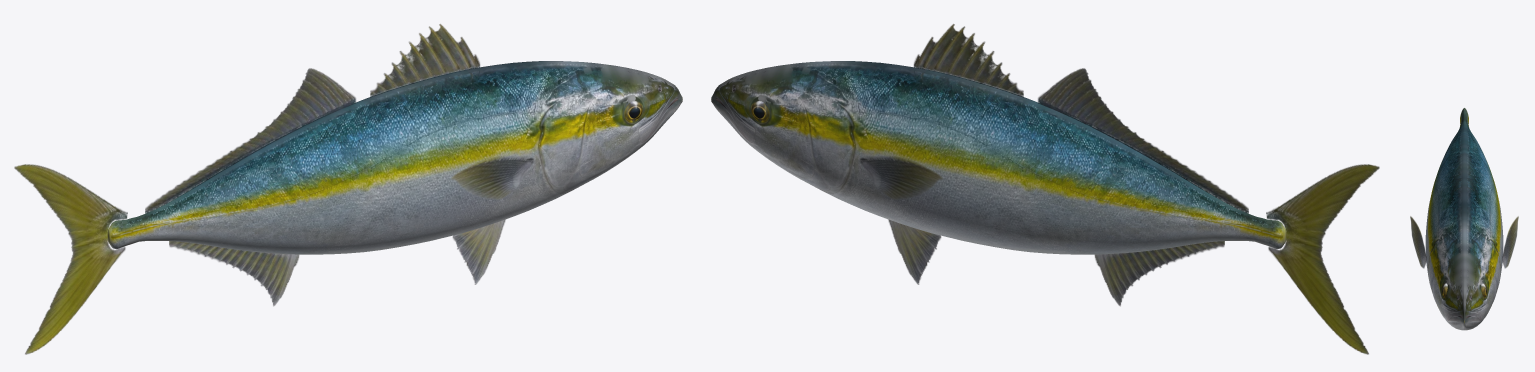
Rendered from buri.glb.
3 renders of one model, left to right at view 1: azimuth 30°, elevation 25°; view 2: azimuth 150°, elevation 25°; view 3: azimuth 270°, elevation 25°, orthographic. The views are drawn at different scales.
Parts seen in each view (by area): view 1: buri; view 2: buri; view 3: buri.
Part boxes in pixels (x1,y1,x2,y2): buri: (14,24,682,354); buri: (711,24,1379,354); buri: (1410,108,1518,330).
Bounding box in the file's own units: 0.8023 × 0.3092 × 0.1601.
1 material, 1 textured.
